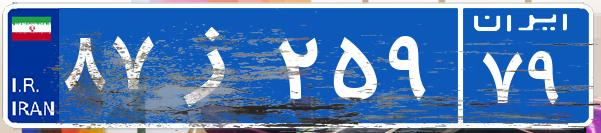2: (273, 28, 330, 110)
5: (330, 28, 385, 110)
7: (475, 38, 525, 113), (110, 28, 158, 105)
8: (57, 26, 110, 107)
9: (385, 28, 445, 110), (525, 38, 570, 115)
ز: (158, 15, 273, 115)
